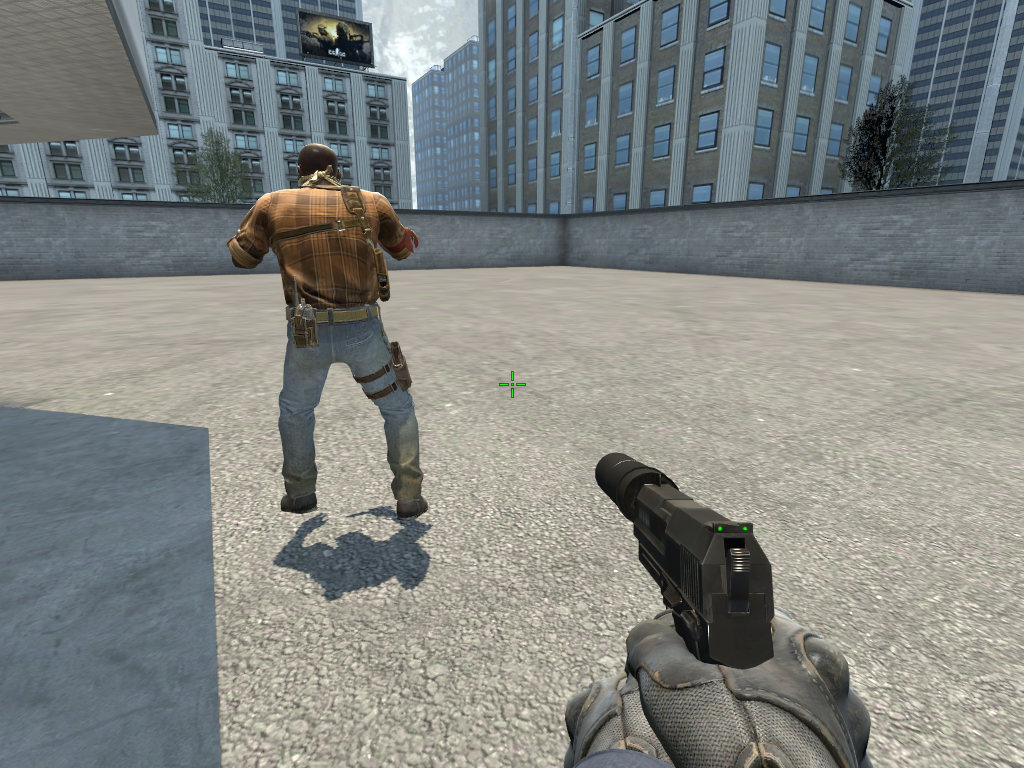tr head: (292, 141, 348, 202)
